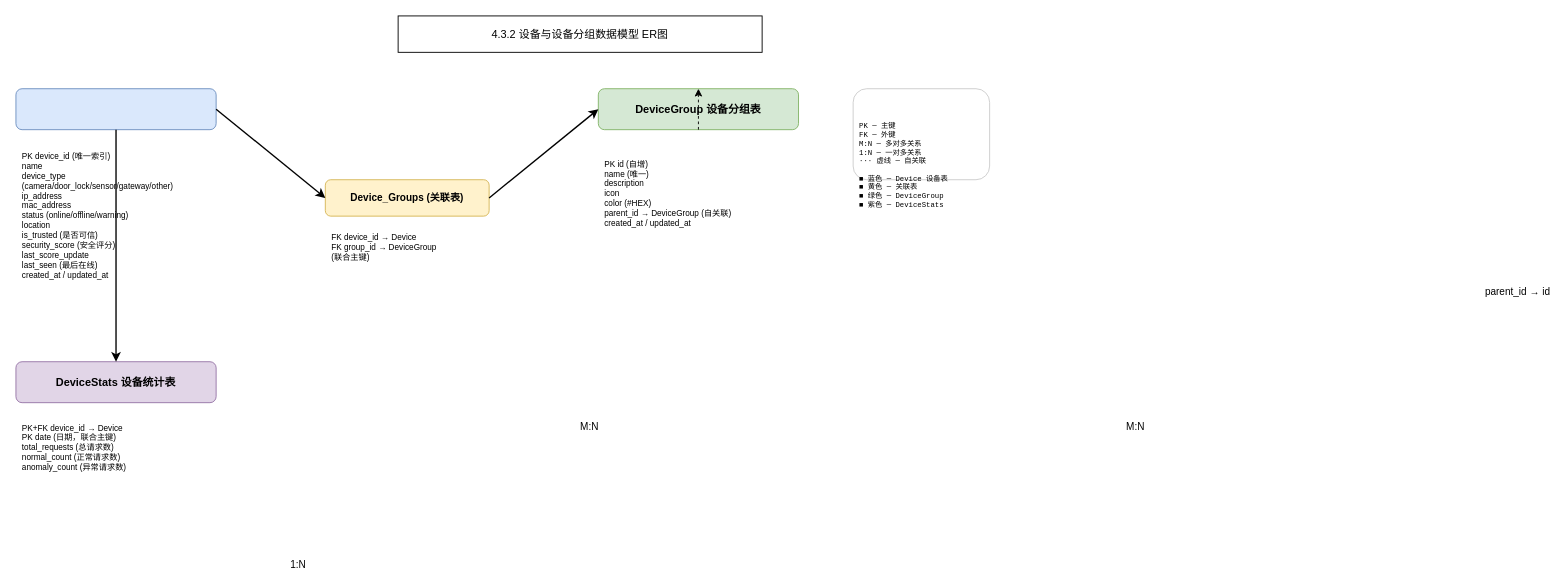
Some shapes in this 1566 by 586 pixel diagram are drawn without their labels. Each missing label, with the box of its shape:
Device 设备表: (15, 88, 216, 130)
图例说明: (852, 88, 990, 180)
